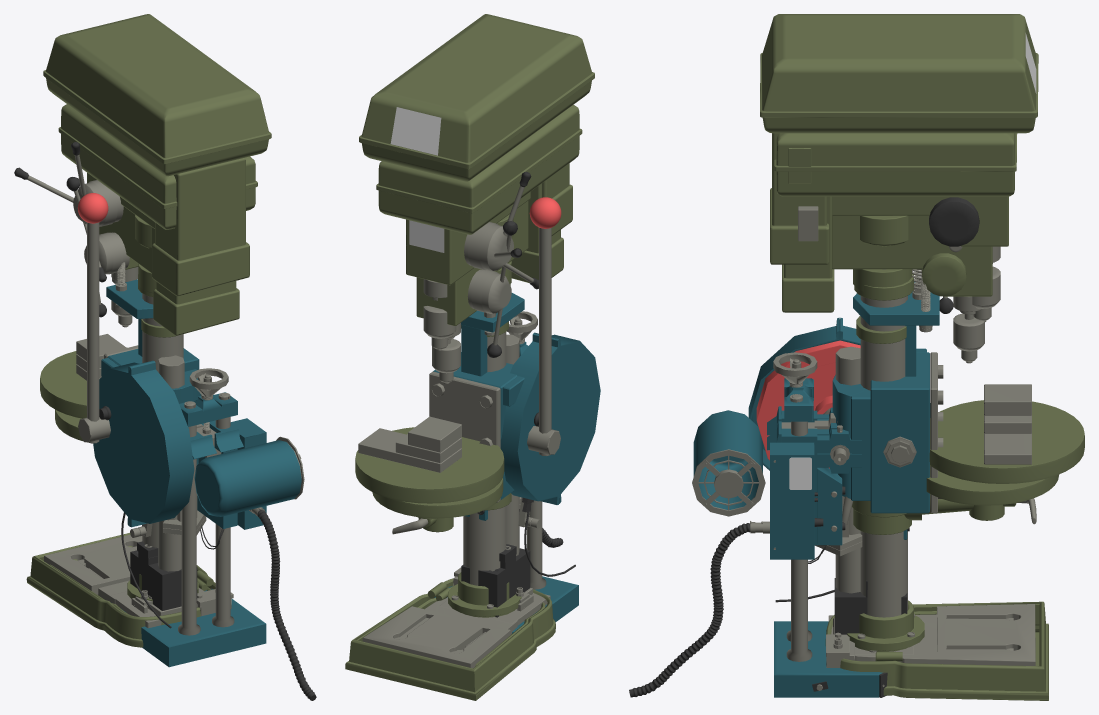
The model's file is Devices.fbx.
3 views of the same model, side by side, from view 1: azimuth 30°, elevation 25°; view 2: azimuth 150°, elevation 25°; view 3: azimuth 270°, elevation 25° (orthographic). The views are drawn at different scales.
Parts seen in each view (by area): view 1: Device3, Device1, Device4, Device2; view 2: Device3, Device4, Device2, Device1; view 3: Device3, Device4, Device1, Device2.
Part boxes in pixels (bbox=[...]): Device3: bbox=[14, 14, 271, 647]; Device1: bbox=[93, 360, 316, 700]; Device4: bbox=[49, 104, 257, 614]; Device2: bbox=[77, 193, 201, 628]; Device3: bbox=[345, 14, 594, 700]; Device4: bbox=[372, 105, 582, 666]; Device2: bbox=[429, 197, 561, 625]; Device1: bbox=[434, 311, 600, 633]; Device3: bbox=[760, 14, 1084, 700]; Device4: bbox=[774, 133, 1059, 663]; Device1: bbox=[629, 317, 930, 697]; Device2: bbox=[828, 269, 943, 654].
Bounding box in the file's own units: 25.97 × 89.7 × 57.96.
